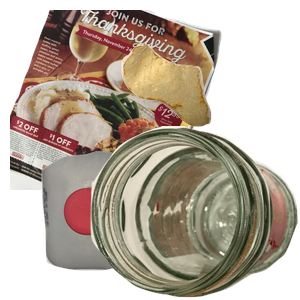glass: (90, 126, 300, 300)
paper: (10, 10, 224, 190)
plastic: (39, 149, 203, 300)
trash: (119, 42, 300, 161)
